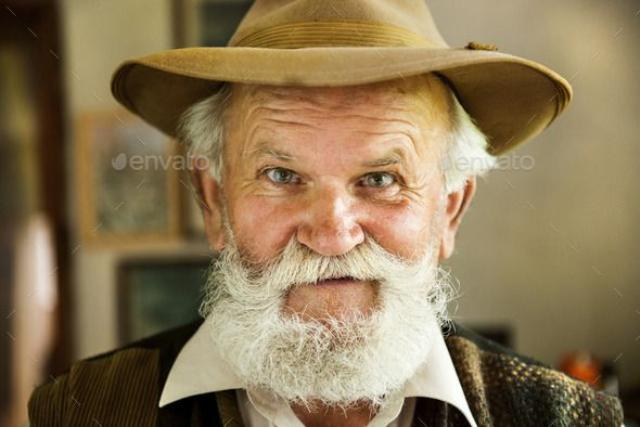crows_feet: (238, 169, 260, 201), (396, 177, 419, 205)
forehead: (363, 124, 421, 146), (353, 105, 407, 128), (260, 96, 296, 126)
